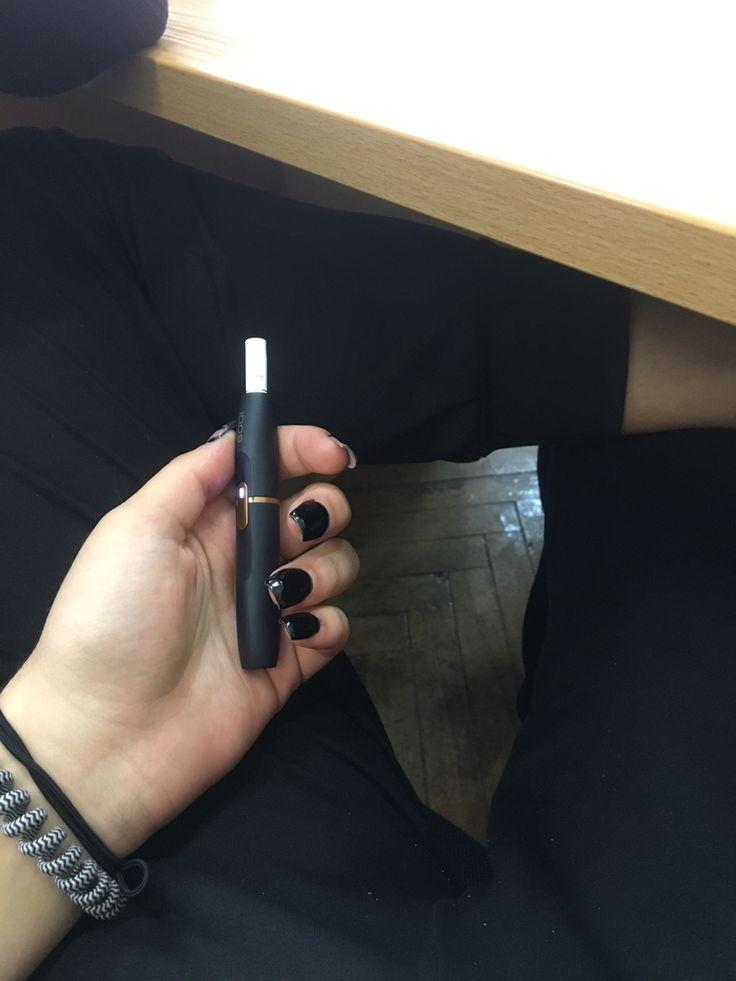iqos: (235, 338, 278, 669)
